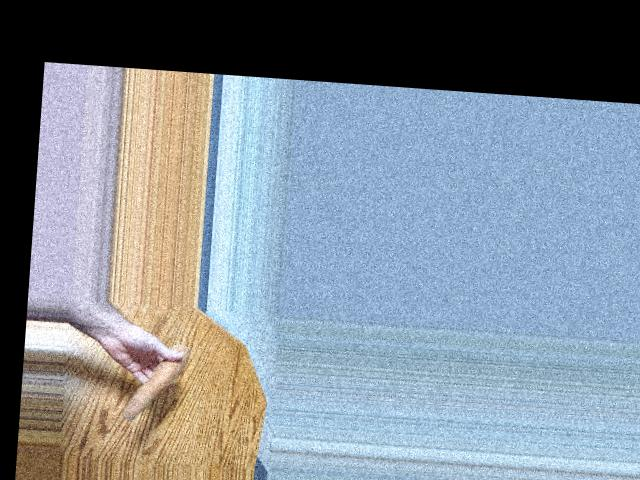sweet_potato: (120, 341, 186, 423)
